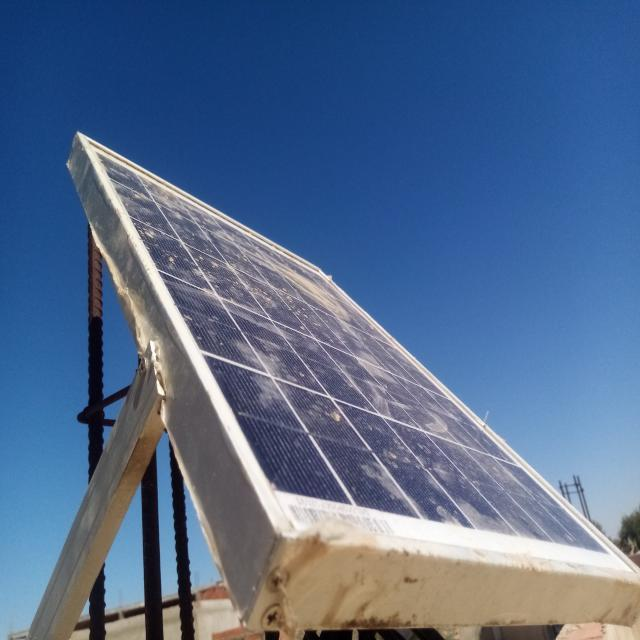faulty: (83, 142, 640, 576)
